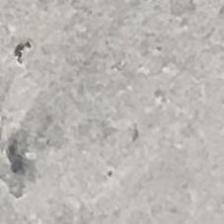Non_Crack: (58, 4, 186, 201)
